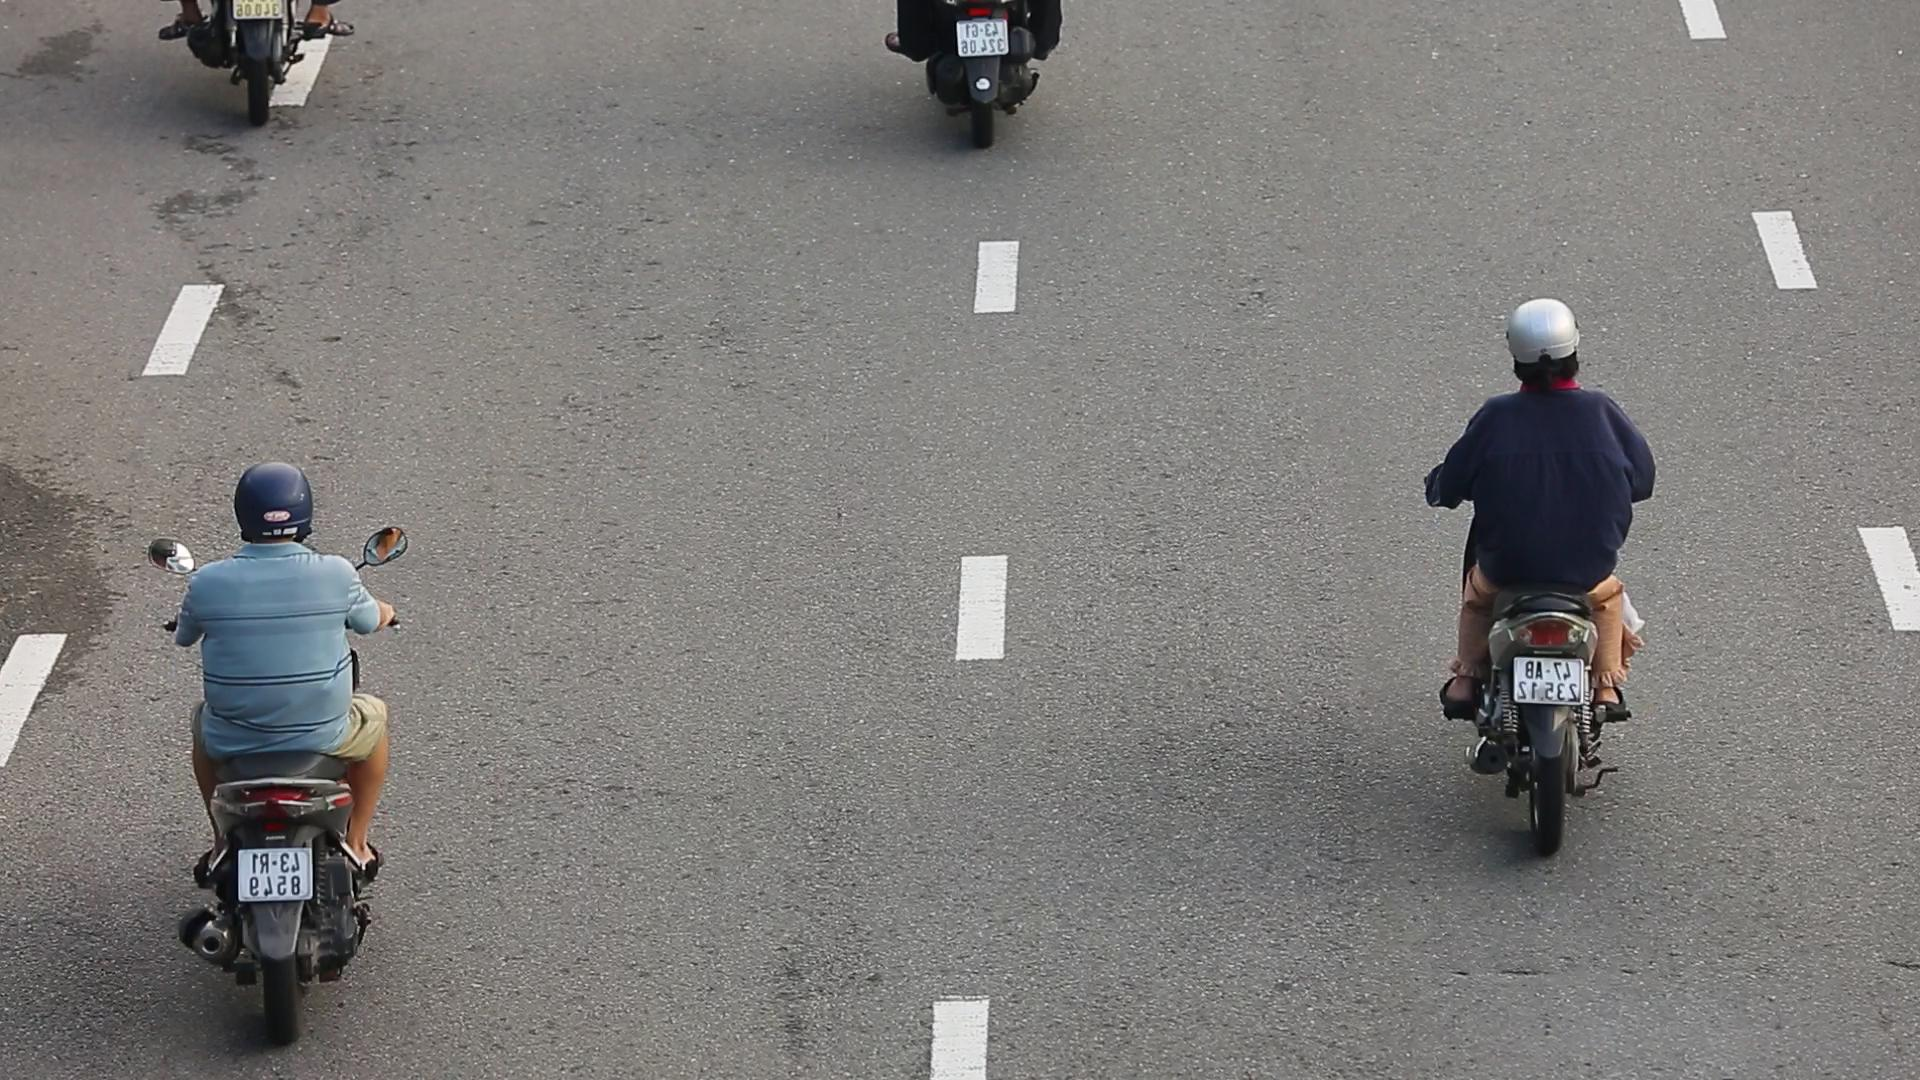motobike: (142, 430, 405, 1047), (1439, 285, 1668, 874)
